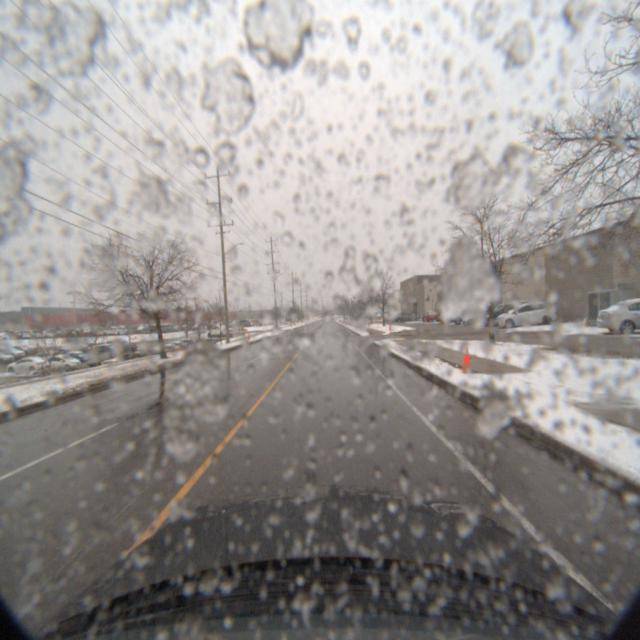Car: (490, 300, 558, 327), (477, 299, 537, 327), (457, 306, 503, 325), (446, 304, 487, 324)
